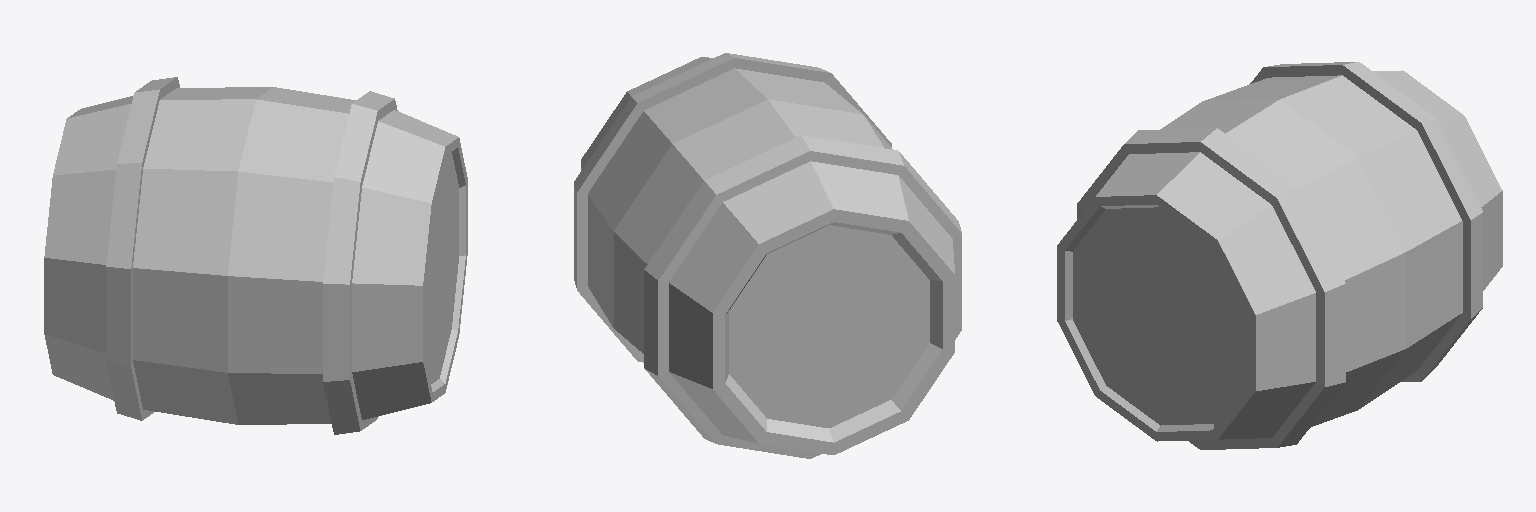
The model's file is barril_4.obj.
The picture shows the model from 3 angles: view 1: azimuth 30°, elevation 25°; view 2: azimuth 150°, elevation 25°; view 3: azimuth 270°, elevation 25°; orthographic projection.
Visible parts, largest first — view 1: Barril.003_Cylinder.046; view 2: Barril.003_Cylinder.046; view 3: Barril.003_Cylinder.046.
Part boxes in pixels (x1,y1,x2,y2): Barril.003_Cylinder.046: (44, 77, 467, 434); Barril.003_Cylinder.046: (574, 53, 961, 458); Barril.003_Cylinder.046: (1057, 62, 1502, 449).
Size of the model in its own units: 1.2 by 0.9152 by 1.16.